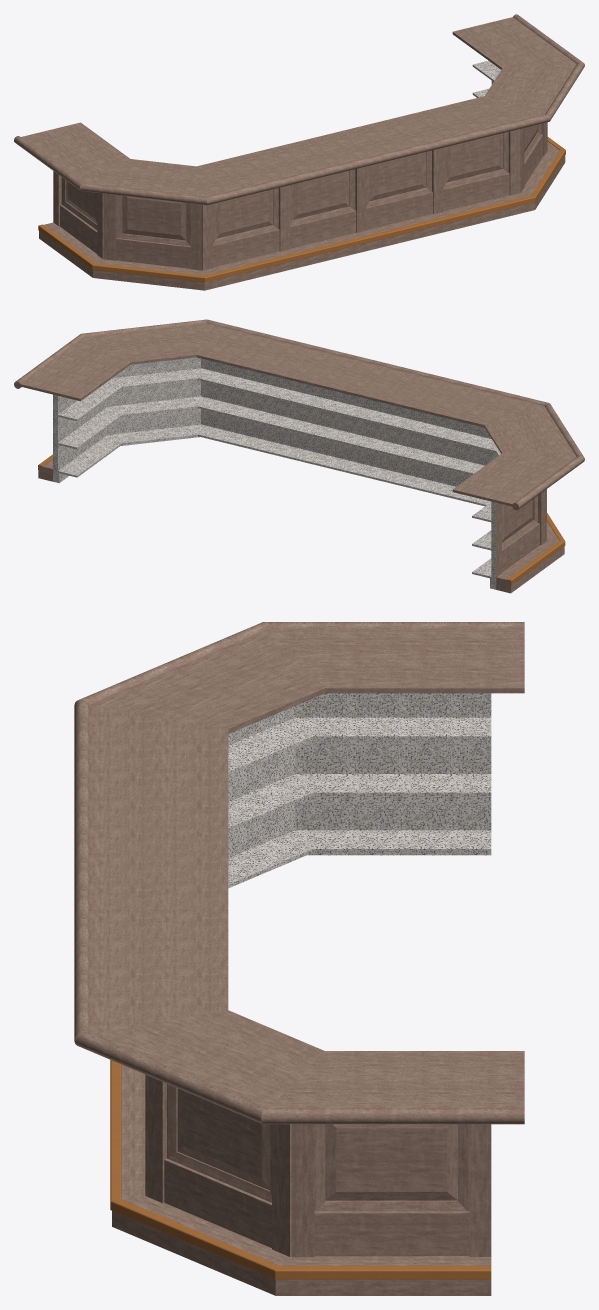
File: bar_2.fbx
3 views of the same model, one above another, from view 1: azimuth 30°, elevation 25°; view 2: azimuth 150°, elevation 25°; view 3: azimuth 270°, elevation 25° (orthographic). The views are drawn at different scales.
Visible parts, largest first — view 1: Material2.002, Material2.001, Material2; view 2: Material2, Material2.002, Material2.001; view 3: Material2.002, Material2, Material2.001.
Part boxes in pixels (x1,y1,x2,y2): Material2.002: (14,14,584,290); Material2.001: (38,137,565,282); Material2: (472,60,500,97); Material2: (53,357,500,589); Material2.002: (14,319,584,593); Material2.001: (38,454,565,584); Material2.002: (74,622,524,1295); Material2: (228,693,491,888); Material2.001: (110,1060,491,1279).
Bounding box in the file's own units: 21087 × 3974 × 8134.
